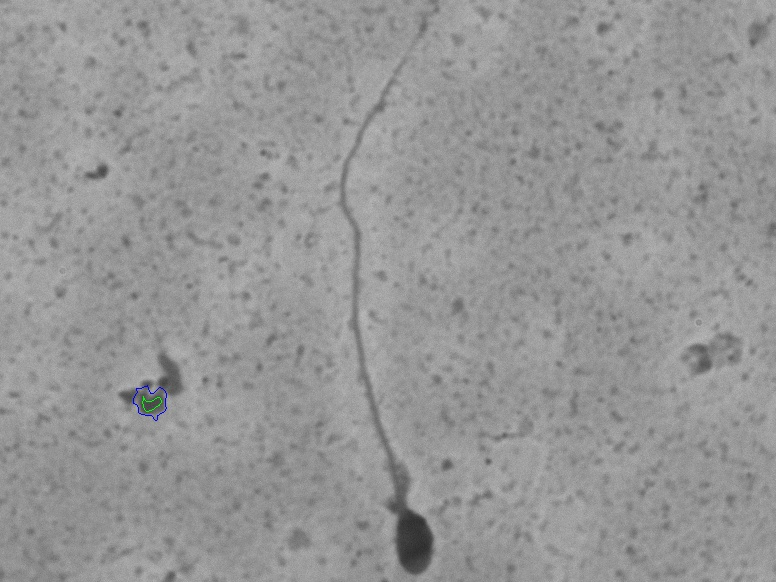Normal: (282, 29, 501, 579)
